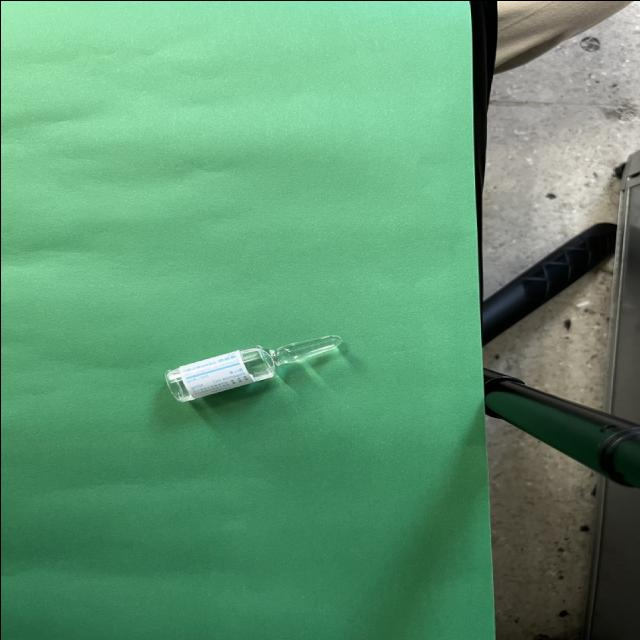Ampoules: (165, 334, 341, 401)
